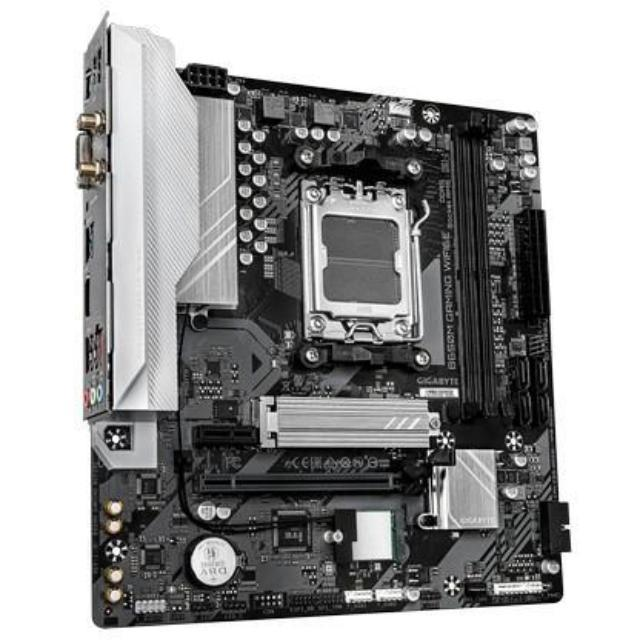Mainboard: (69, 3, 582, 640)
